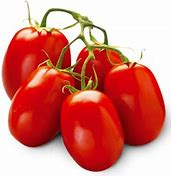tomato: (56, 93, 120, 166), (11, 62, 63, 144), (103, 64, 160, 138)
